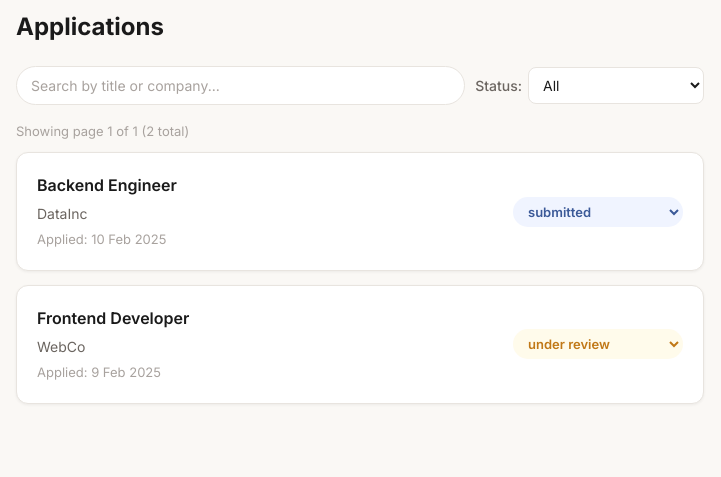
Test case: ApplicationDashboard › shows success message on status update (Req 6.4)
Check: the heading "Backend Engineer" is shown, box [37,175,177,195]
Select "interview scheduled" in the dropdown named "Application status" in the row of "DataInc" at (598, 212), box [513,197,683,227]
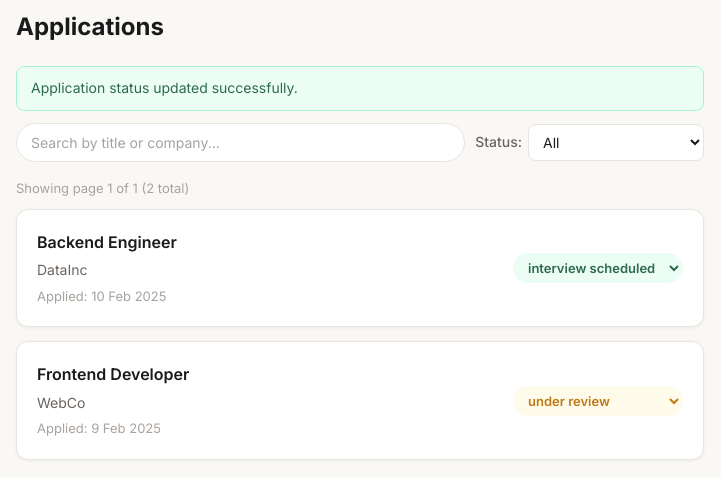
Check: the text "Application status updated successfully." is shown, box [16,66,704,111]
